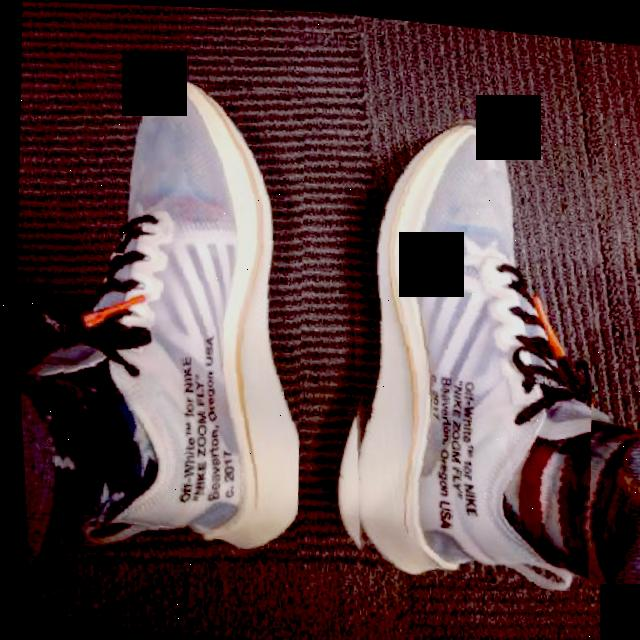shoe: (27, 67, 323, 566), (314, 98, 614, 589)
